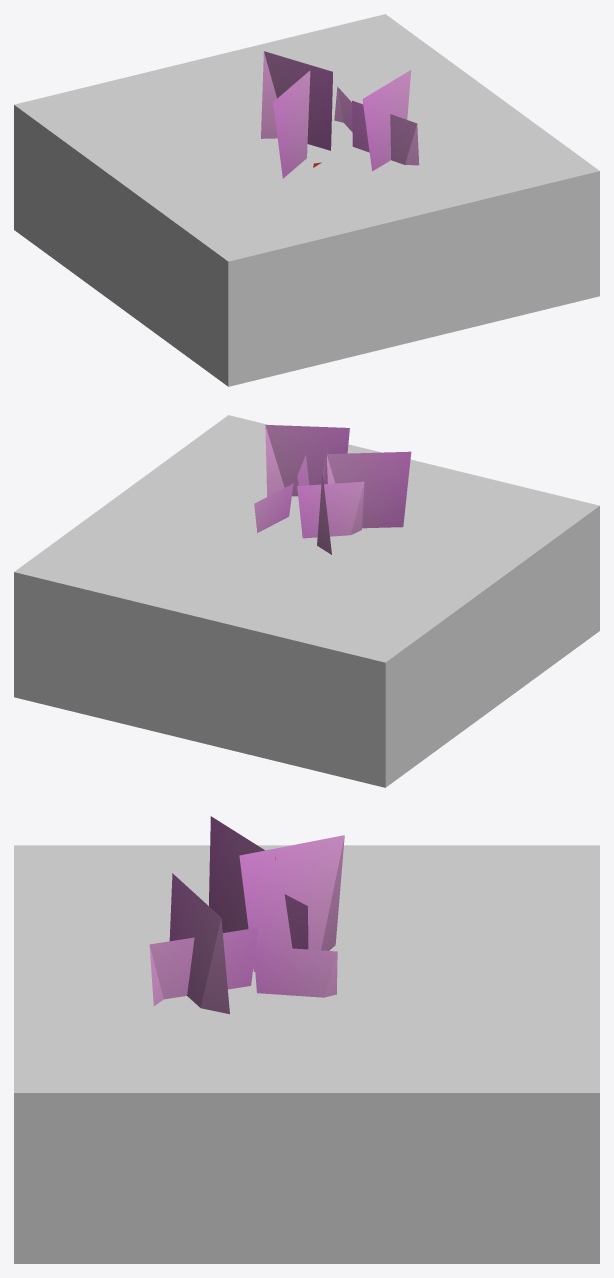
Rendered from grass_field_tallbig.dae.
3 renders of one model, top to bottom at view 1: azimuth 30°, elevation 25°; view 2: azimuth 150°, elevation 25°; view 3: azimuth 270°, elevation 25°, orthographic. The views are drawn at different scales.
Visible parts, largest first — view 1: Untitled, grass_field_large150, grass_field_large300; view 2: Untitled, grass_field_large150, grass_field_large300; view 3: Untitled, grass_field_large150, grass_field_large300.
Boxes of the visible parts, x1,y1,x2,y2 form: Untitled: (14, 14, 599, 386); grass_field_large150: (261, 51, 419, 178); grass_field_large300: (313, 86, 352, 167); Untitled: (14, 415, 599, 787); grass_field_large150: (265, 425, 411, 554); grass_field_large300: (254, 483, 293, 533); Untitled: (14, 845, 599, 1263); grass_field_large150: (149, 816, 344, 1014); grass_field_large300: (253, 946, 337, 997).
Bounding box in the file's own units: 3.59 × 3.59 × 2.4.
